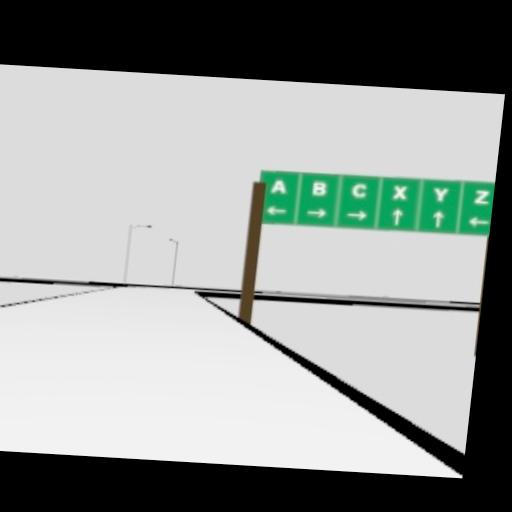A: (270, 179, 287, 193)
B: (311, 180, 326, 196)
C: (349, 182, 368, 198)
Left: (264, 206, 287, 215), (466, 216, 489, 225)
Right: (305, 206, 326, 218), (345, 209, 366, 220)
Straight: (431, 210, 445, 228), (391, 208, 403, 226)
X: (392, 185, 407, 199)
Y: (432, 185, 449, 201)
Z: (472, 190, 489, 204)
